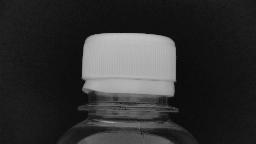Loose Cap: (70, 75, 184, 117)
